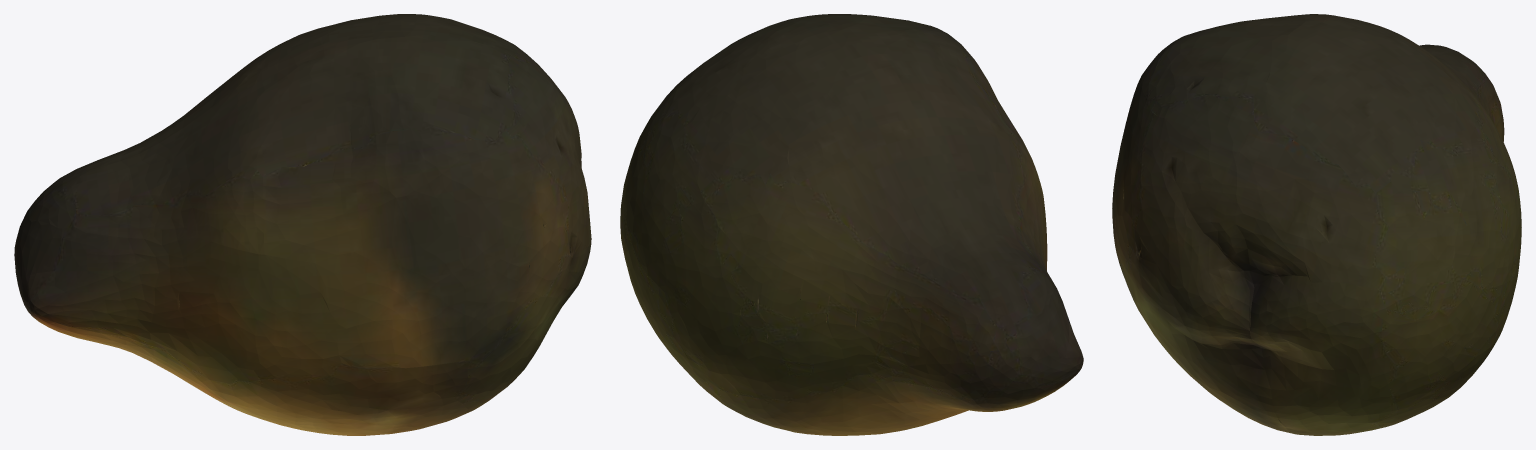
File: brown_pear_in_the_foreground_right_000.glb
3 renders of one model, left to right at view 1: azimuth 30°, elevation 25°; view 2: azimuth 150°, elevation 25°; view 3: azimuth 270°, elevation 25°, orthographic. The views are drawn at different scales.
Parts seen in each view (by area): view 1: phase2_final_brown_pear_in_the_foreground_right_000.obj; view 2: phase2_final_brown_pear_in_the_foreground_right_000.obj; view 3: phase2_final_brown_pear_in_the_foreground_right_000.obj.
Part boxes in pixels (x1,y1,x2,y2): phase2_final_brown_pear_in_the_foreground_right_000.obj: (14, 14, 591, 435); phase2_final_brown_pear_in_the_foreground_right_000.obj: (620, 14, 1083, 435); phase2_final_brown_pear_in_the_foreground_right_000.obj: (1112, 14, 1521, 435).
Size of the model in its own units: 0.2386 by 0.1783 by 0.1719.
1 material, 1 textured.
